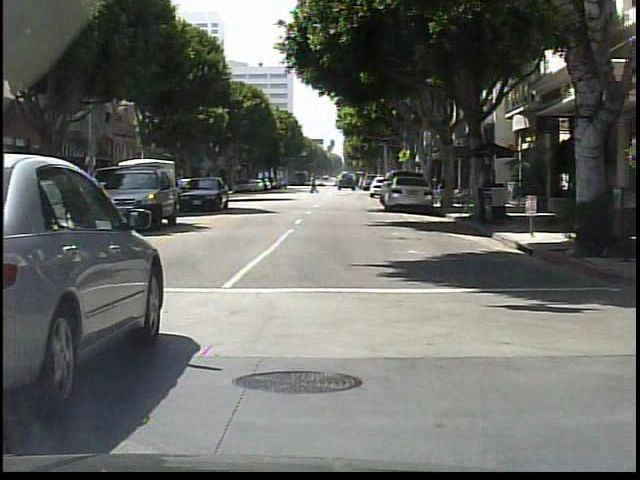person: (588, 166, 605, 237), (478, 162, 497, 223), (310, 176, 320, 196)
